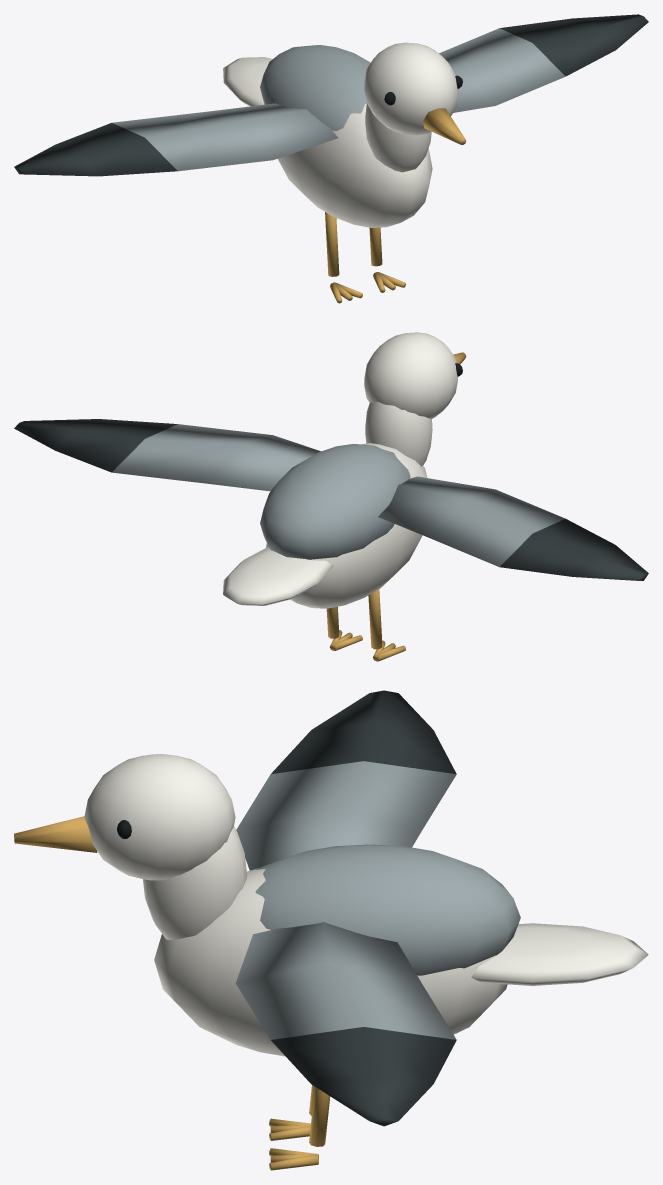
Rendered from harbor-gull.glb.
3 renders of one model, top to bottom at view 1: azimuth 30°, elevation 25°; view 2: azimuth 150°, elevation 25°; view 3: azimuth 270°, elevation 25°, orthographic. The views are drawn at different scales.
Visible parts, largest first — view 1: GullBody, GullWingMeshLeft, GullWingMeshRight; view 2: GullBody, GullWingMeshLeft, GullWingMeshRight; view 3: GullBody, GullWingMeshRight, GullWingMeshLeft.
Part boxes in pixels (left/top/right/bottom): GullBody: left=223, top=42, right=466, bottom=303; GullWingMeshLeft: left=14, top=103, right=338, bottom=176; GullWingMeshRight: left=439, top=14, right=648, bottom=112; GullBody: left=223, top=332, right=466, bottom=661; GullWingMeshLeft: left=378, top=476, right=648, bottom=580; GullWingMeshRight: left=14, top=419, right=320, bottom=491; GullBody: left=14, top=754, right=648, bottom=1170; GullWingMeshRight: left=235, top=922, right=456, bottom=1126; GullWingMeshLeft: left=236, top=690, right=456, bottom=870.
Size of the model in its own units: 0.174 by 0.074 by 0.1091.
